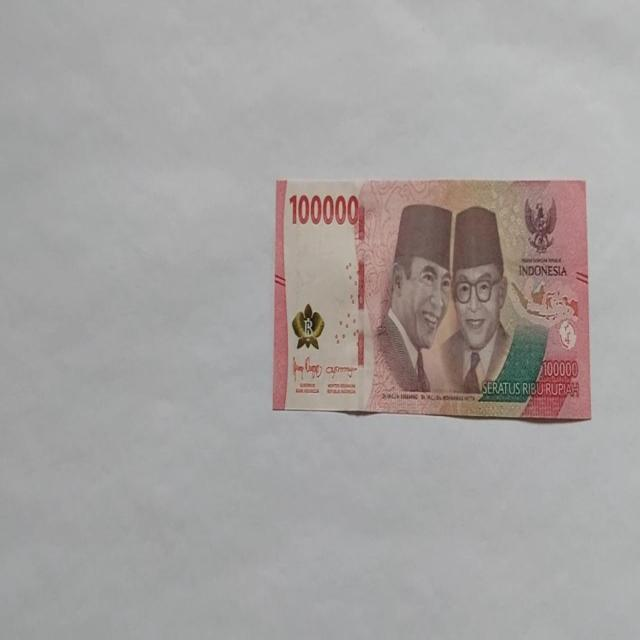Kertas: (272, 176, 591, 421), (288, 190, 360, 228)
